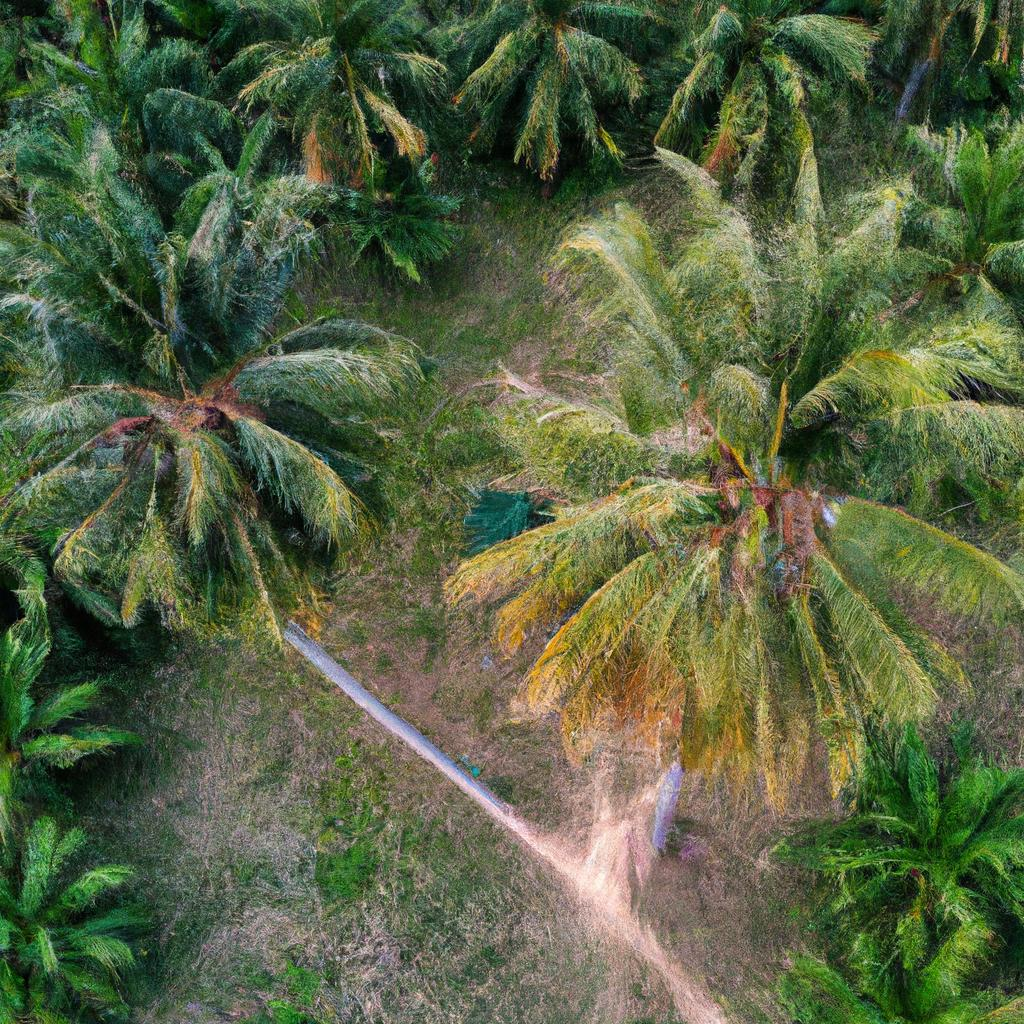coconut_tree: (435, 162, 1023, 816), (0, 139, 401, 661)
